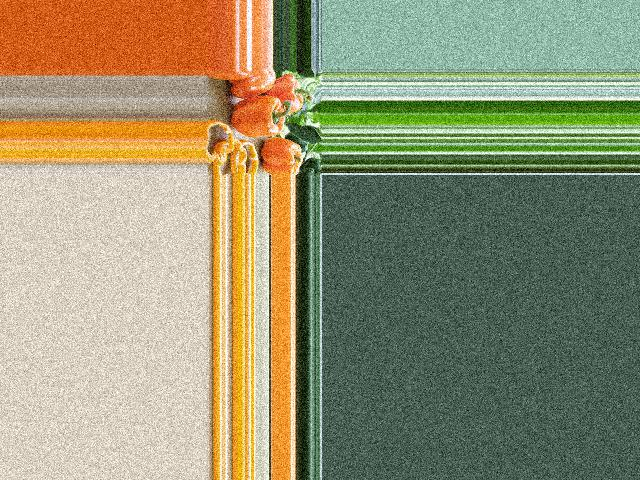bell_pepper: (227, 69, 276, 97)
